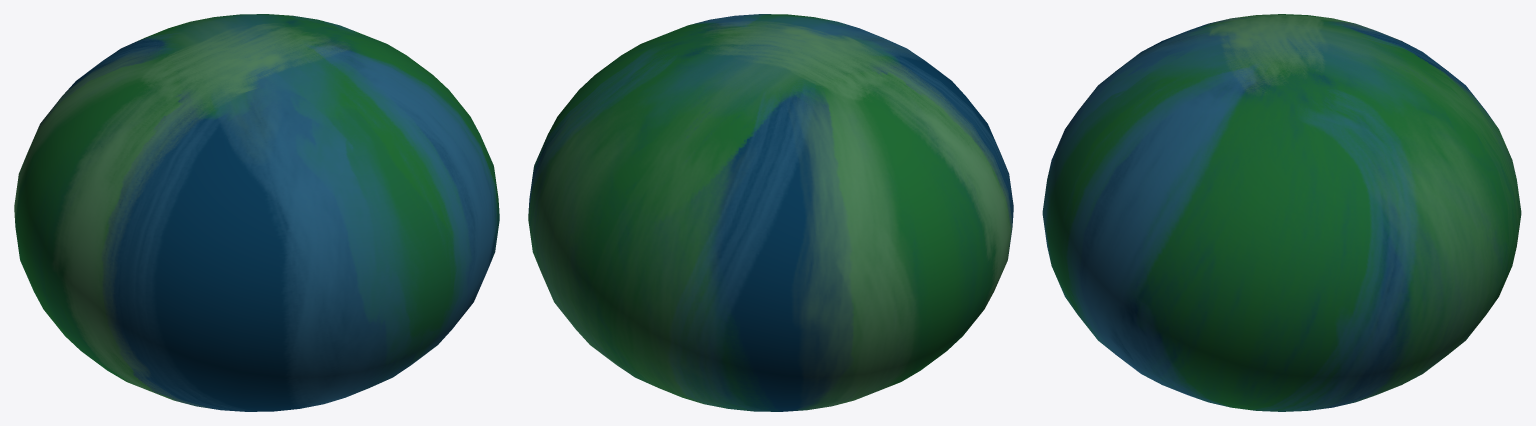
The model's file is Arbusto 1.fbx.
3 renders of one model, left to right at view 1: azimuth 30°, elevation 25°; view 2: azimuth 150°, elevation 25°; view 3: azimuth 270°, elevation 25°, orthographic.
Visible parts, largest first — view 1: Sphere.002; view 2: Sphere.002; view 3: Sphere.002.
Boxes of the visible parts, x1,y1,x2,y2 form: Sphere.002: [14, 14, 499, 411]; Sphere.002: [528, 14, 1013, 411]; Sphere.002: [1042, 14, 1521, 411].
Bounding box in the file's own units: 782 × 604 × 769.
Materials: 1 (1 with a texture image).
